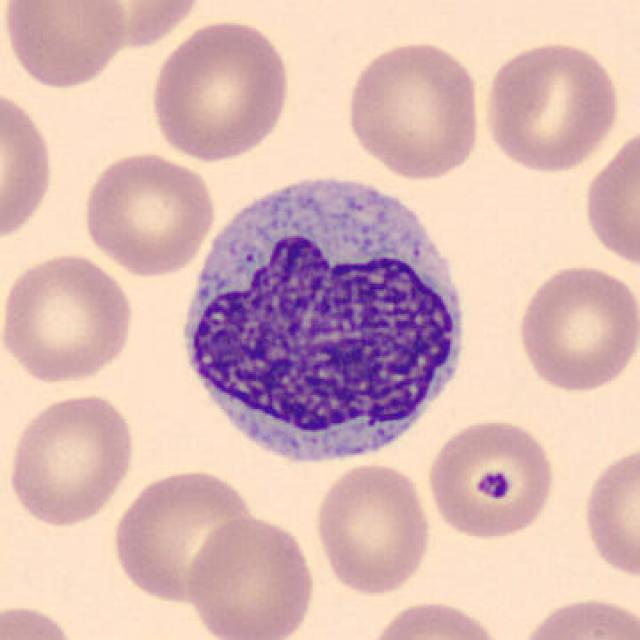Monocyte: (169, 160, 478, 478)
Platelets: (475, 463, 513, 508)
RBC: (108, 464, 265, 606), (146, 16, 293, 164), (342, 37, 486, 182), (478, 36, 624, 176), (0, 248, 139, 388), (3, 390, 138, 529), (78, 148, 219, 279), (423, 414, 560, 543), (182, 513, 318, 640), (311, 458, 434, 598), (512, 261, 638, 395), (0, 0, 131, 93), (0, 83, 57, 247), (580, 122, 638, 273), (578, 439, 638, 582), (58, 0, 206, 49), (362, 597, 506, 640), (514, 592, 638, 640), (0, 599, 84, 640), (583, 0, 640, 18)
